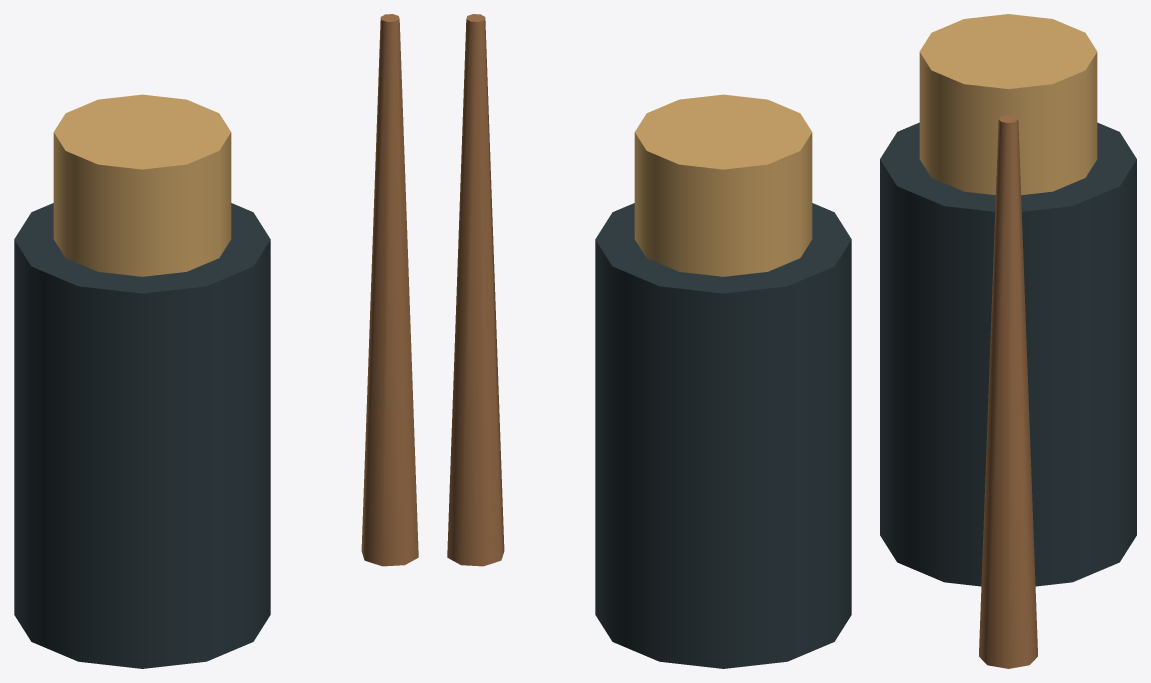
The model's file is mark.glb.
3 views of the same model, side by side, from view 1: azimuth 30°, elevation 25°; view 2: azimuth 150°, elevation 25°; view 3: azimuth 270°, elevation 25° (orthographic).
Parts seen in each view (by area): view 1: prop_mark; view 2: prop_mark; view 3: prop_mark.
Boxes of the visible parts, <box> form: prop_mark: <box>14,14,418,668</box>; prop_mark: <box>447,14,851,668</box>; prop_mark: <box>880,14,1136,668</box>.
Bounding box in the file's own units: 0.045 × 0.06 × 0.026.
